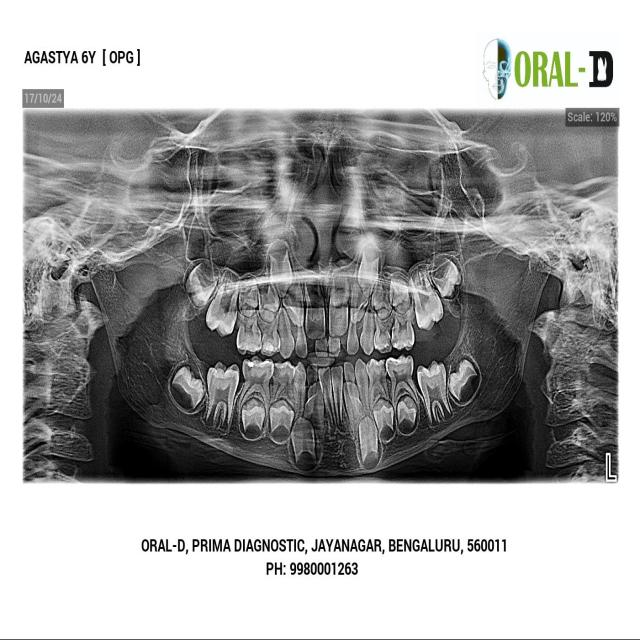Premolars: (354, 354, 372, 421)
